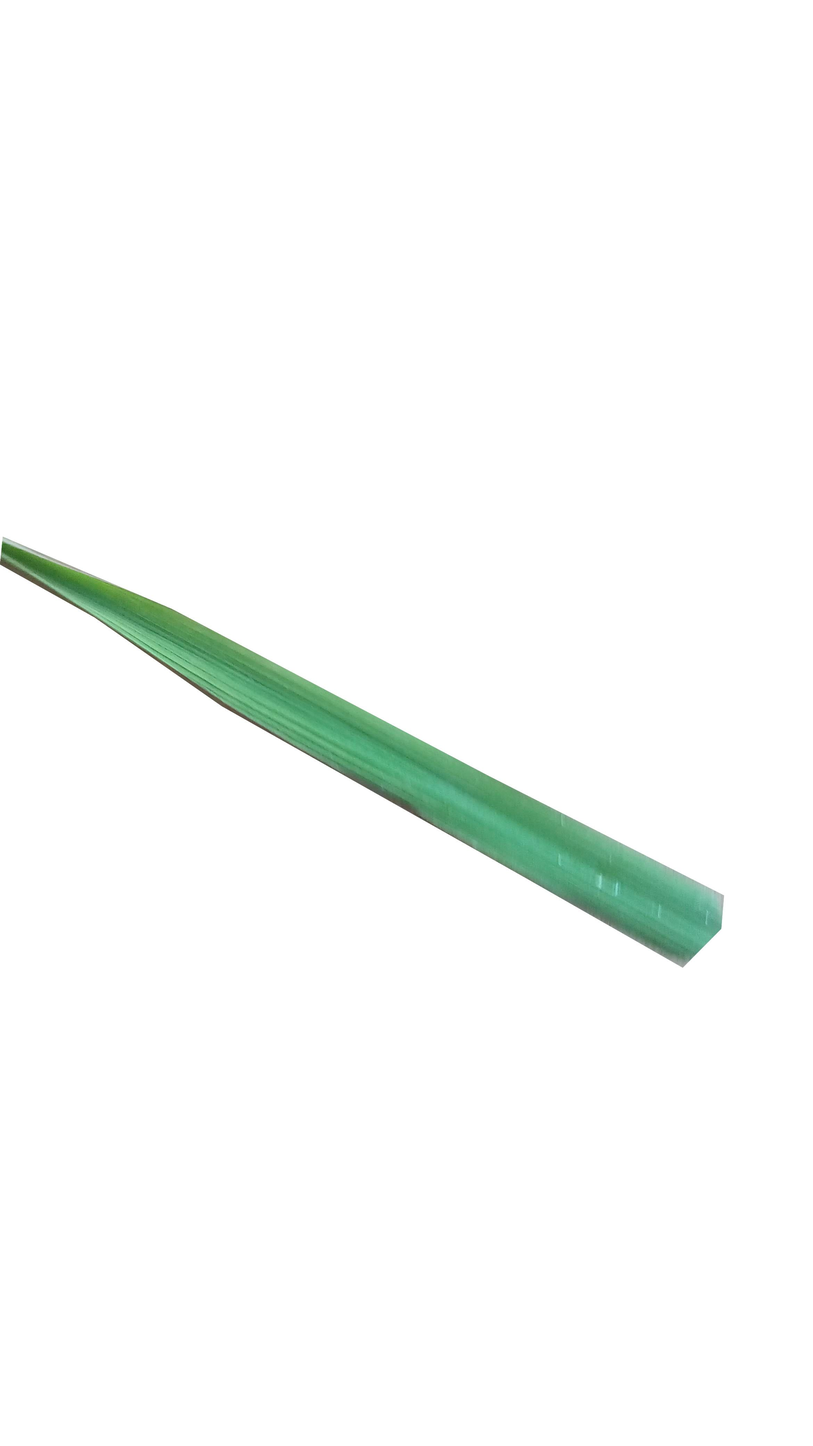Healthy: (0, 542, 727, 970)
